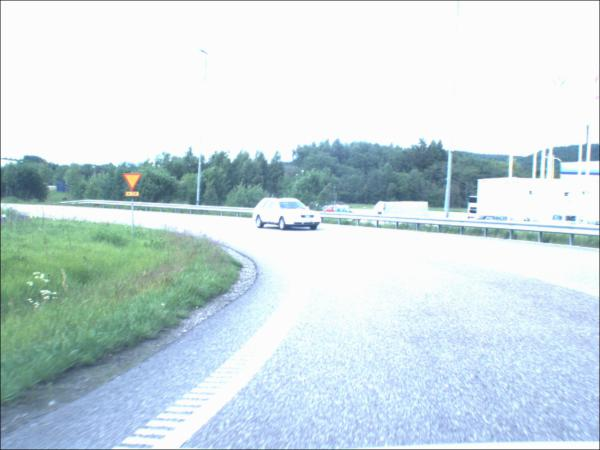GIVE_WAY: (123, 175, 143, 193)
